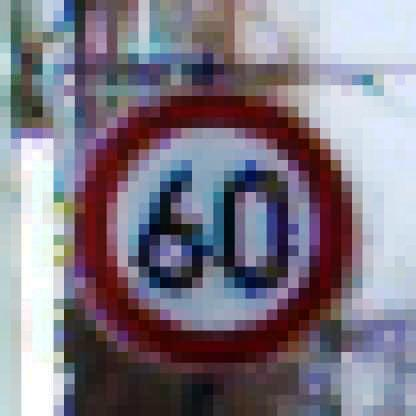Speed Limit -60-: (74, 93, 370, 372)
